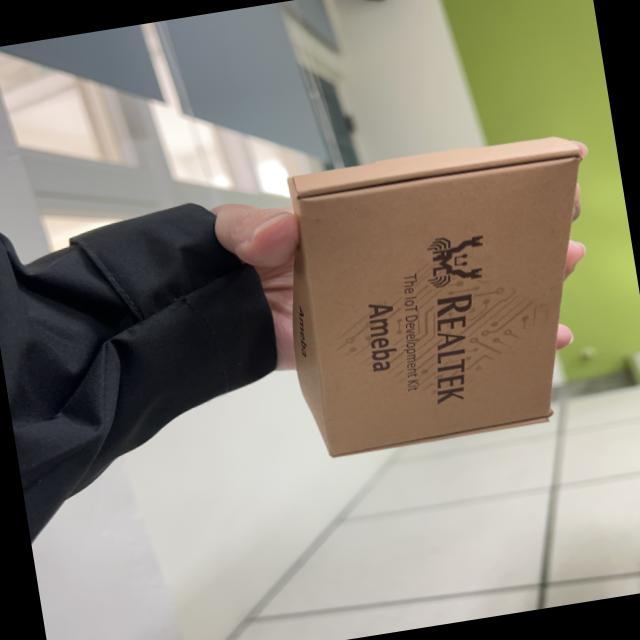box: (244, 122, 624, 491)
